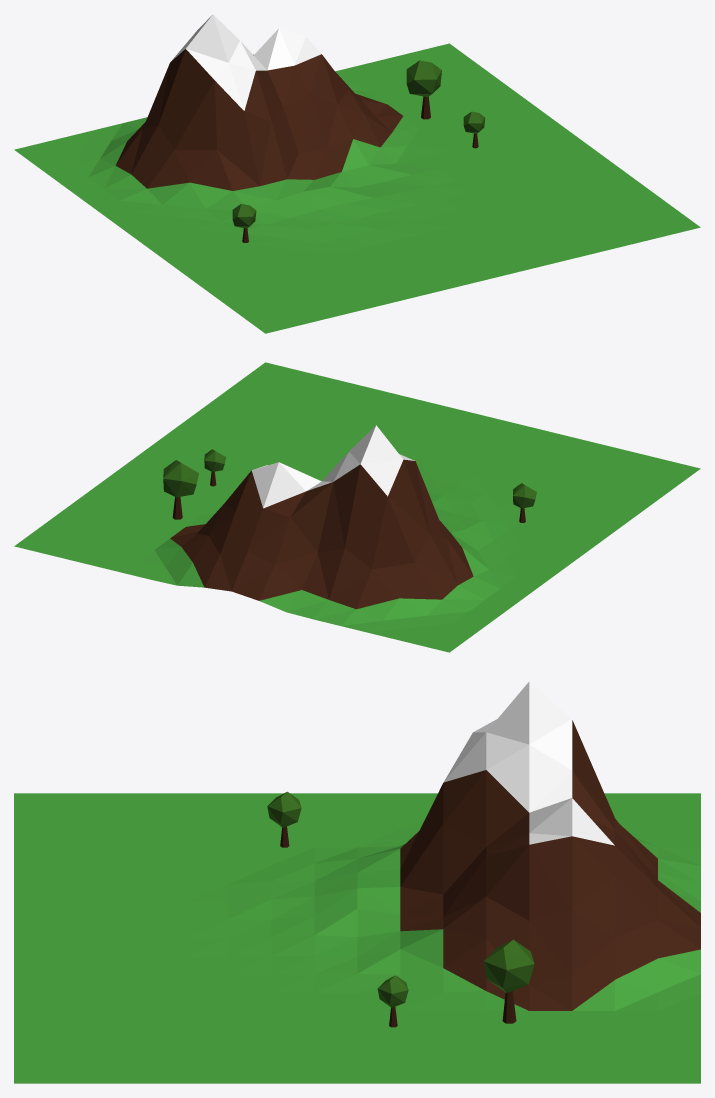
The model's file is berg.gltf.
The picture shows the model from 3 angles, top to bottom: view 1: azimuth 30°, elevation 25°; view 2: azimuth 150°, elevation 25°; view 3: azimuth 270°, elevation 25°; orthographic projection. The views are drawn at different scales.
Visible parts, largest first — view 1: Plane, Cylinder.002, Cylinder; view 2: Plane, Cylinder.002, Cylinder, Cylinder.001; view 3: Plane, Cylinder.002, Cylinder, Cylinder.001.
Part boxes in pixels (x1,y1,x2,y2): Plane: (14,14,700,333); Cylinder.002: (406,60,441,119); Cylinder: (232,203,256,242); Plane: (14,362,700,652); Cylinder.002: (163,460,198,519); Cylinder: (513,483,536,522); Cylinder.001: (204,449,225,486); Plane: (14,681,700,1083); Cylinder.002: (483,939,534,1023); Cylinder: (267,791,301,847); Cylinder.001: (377,975,408,1027).
Bounding box in the file's own units: 15.99 × 5.3 × 15.99.
